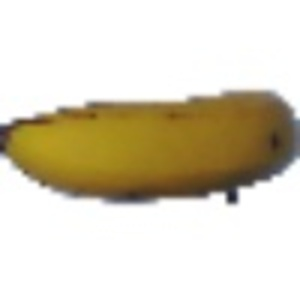banana: (2, 87, 296, 202)
